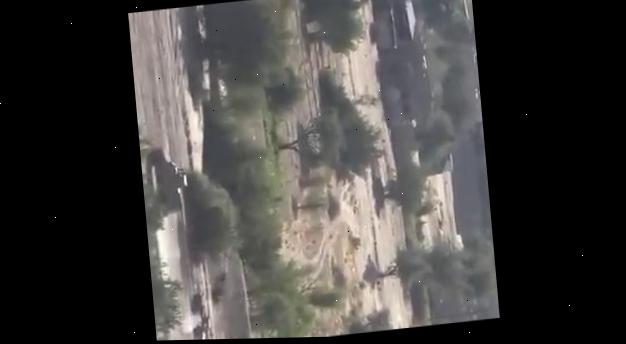armored_car: (148, 144, 190, 216)
truck: (185, 288, 211, 340)
